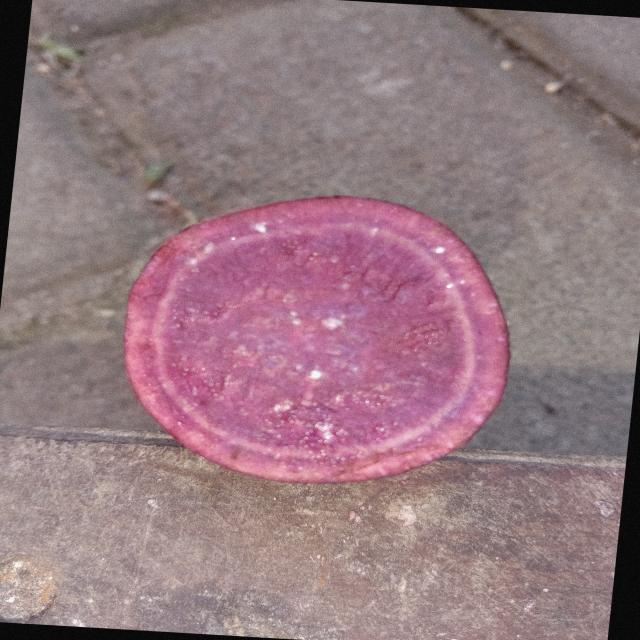Healthy Sweet Potato: (125, 196, 508, 482)
